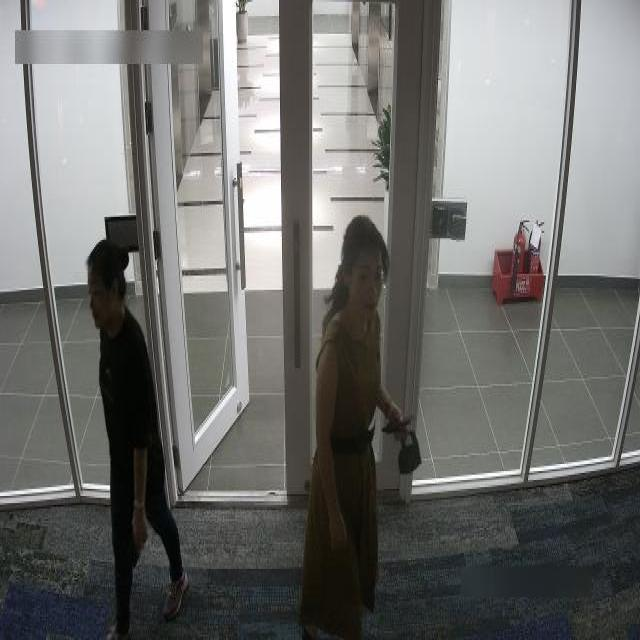bare_hand: (314, 489, 356, 565), (380, 384, 415, 444), (128, 491, 154, 565)
